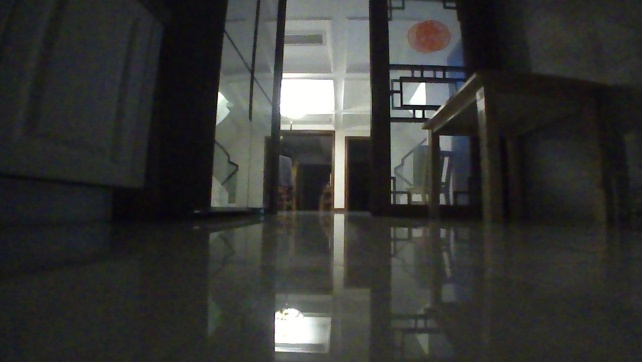cupboard1: (0, 0, 173, 231)
